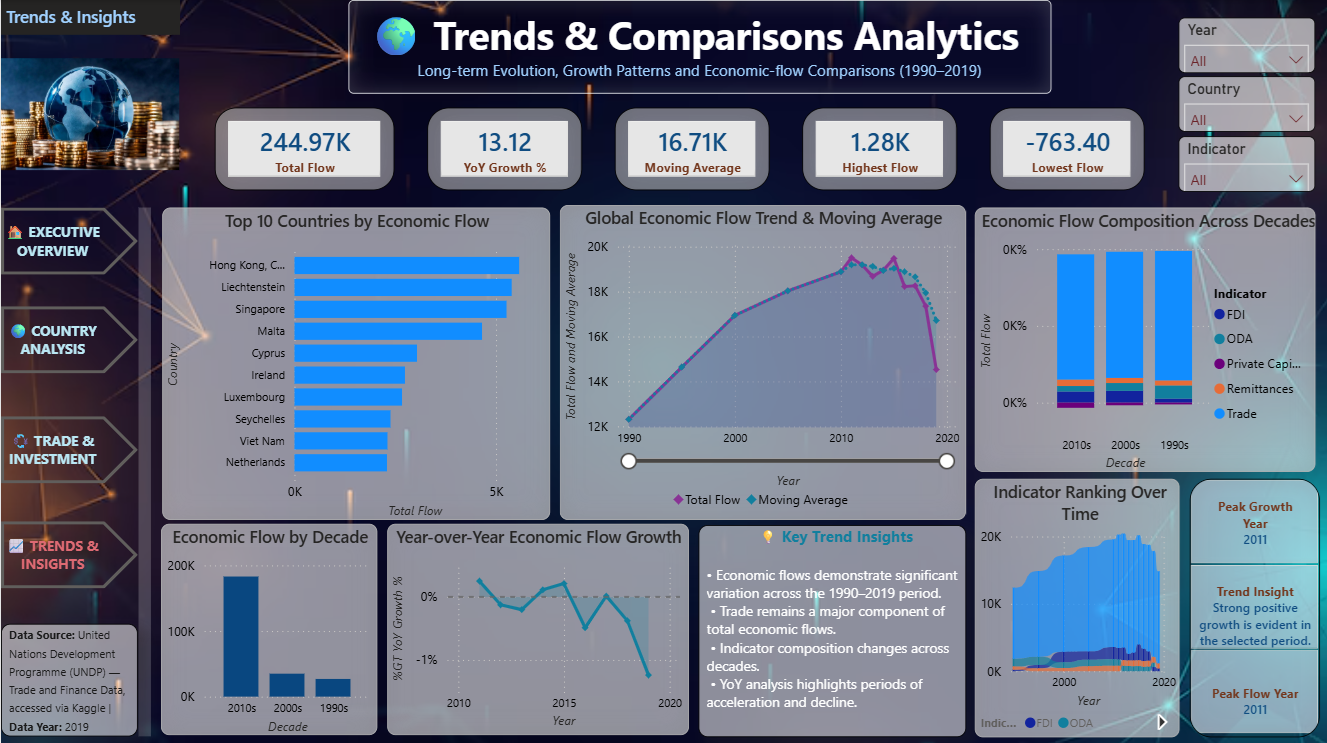

What the dashboard file says about the page in this screenshot:
{"tool":"powerbi","page":{"name":"04. Trends & Comparisons","canvas":[1280,720],"ordinal":3},"visuals":[{"type":"textbox","box":[335.4,0,678,90.5],"z":0},{"type":"slicer","fields":{"Values":["Dim_Date.Year"]},"box":[1137,17.4,131.6,53.9],"z":0,"group":"g2"},{"type":"textbox","box":[0,0,172.8,33.3],"z":1000},{"type":"slicer","fields":{"Values":["Dim_Country.Country"]},"box":[1137,74.5,131.6,53.9],"z":1000,"group":"g2"},{"type":"group","id":"g1","title":"Group 1","box":[206.3,103.8,897.6,80.8],"z":2000},{"type":"cardVisual","fields":{"Data":["My Measures.Total Flow"]},"box":[206.3,103.9,173.6,80.3],"z":2000,"group":"g1"},{"type":"slicer","fields":{"Values":["Dim_Indicator.Indicator"]},"box":[1137,131.6,131.6,53.9],"z":2000,"group":"g2"},{"type":"cardVisual","fields":{"Data":["My Measures.YoY Growth %"]},"box":[411.5,103.8,149.7,80.3],"z":3000,"group":"g1"},{"type":"clusteredBarChart","title":"Top 10 Countries by Economic Flow","fields":{"Category":["Dim_Country.Country"],"Y":["My Measures.Total Flow"]},"box":[155.5,200.8,374.4,301.9],"z":3000},{"type":"cardVisual","fields":{"Data":["My Measures.Moving Average"]},"box":[592.4,103.8,149.7,80.3],"z":4000,"group":"g1"},{"type":"textbox","box":[673.2,506.7,258.2,205.1],"z":4000},{"type":"cardVisual","fields":{"Data":["My Measures.Highest Flow"]},"box":[773.3,103.8,149.7,80.3],"z":5000,"group":"g1"},{"type":"textbox","box":[132.7,200.3,12.1,510.3],"z":5000},{"type":"group","id":"g2","title":"Group 2","box":[1137,17.4,131.6,168.1],"z":6000},{"type":"cardVisual","fields":{"Data":["My Measures.Lowest Flow"]},"box":[954.1,103.8,149.7,80.3],"z":6000,"group":"g1"},{"type":"actionButton","box":[0,200.8,132.1,64.8],"z":7000},{"type":"actionButton","box":[0,295.4,132.1,64.8],"z":8000},{"type":"actionButton","box":[0,401.6,132.1,64.8],"z":9000},{"type":"actionButton","box":[0,502.7,132.1,64.8],"z":10000},{"type":"textbox","box":[0,602.4,132.1,108.8],"z":11000},{"type":"image","box":[0,33.7,172.3,152.9],"z":12000},{"type":"lineChart","title":"Global Economic Flow Trend & Moving Average","fields":{"Category":["Dim_Date.Year"],"Y":["My Measures.Total Flow","My Measures.Moving Average"]},"box":[539.3,197.9,392.1,304],"z":13000},{"type":"lineChart","title":"Year-over-Year Economic Flow Growth","fields":{"Category":["Dim_Date.Year"],"Y":["My Measures.YoY Growth %"]},"box":[372.9,506,290.9,204.3],"z":14000},{"type":"clusteredColumnChart","title":"Economic Flow by Decade","fields":{"Category":["Dim_Date.Decade"],"Y":["My Measures.Total Flow"]},"box":[154.7,506,208.9,204.3],"z":15000},{"type":"hundredPercentStackedColumnChart","title":"Economic Flow Composition Across Decades","fields":{"Category":["Dim_Date.Decade"],"Series":["Dim_Indicator.Indicator"],"Y":["My Measures.Total Flow"]},"box":[939.2,200.5,328.9,255.4],"z":16000},{"type":"cardVisual","title":"Peak Growth Year","fields":{"Data":["My Measures.Top Growth Year","My Measures.Trend Insight","My Measures.Highest Flow Year"]},"box":[1147.3,462.1,125.5,249.7],"z":17000},{"type":"ribbonChart","title":"Indicator Ranking Over Time","fields":{"Category":["Dim_Date.Year"],"Series":["Dim_Indicator.Indicator"],"Y":["My Measures.Total Flow"]},"box":[939.2,461.7,197.7,249.6],"z":18000}]}

Visuals, with their boxes in screenshot pixels (x1, y1, x2, y2), scaled from the page's 1280x720 canvas onto the 1327x743 screenshot:
textbox: (348,0,1051,93)
slicer - Dim_Date.Year: (1179,18,1315,74)
textbox: (0,0,179,34)
slicer - Dim_Country.Country: (1179,77,1315,133)
"Group 1" group: (214,107,1144,190)
cardVisual - My Measures.Total Flow: (214,107,394,190)
slicer - Dim_Indicator.Indicator: (1179,136,1315,191)
cardVisual - My Measures.YoY Growth %: (427,107,582,190)
"Top 10 Countries by Economic Flow" clusteredBarChart: (161,207,549,519)
cardVisual - My Measures.Moving Average: (614,107,769,190)
textbox: (698,523,966,735)
cardVisual - My Measures.Highest Flow: (802,107,957,190)
textbox: (138,207,150,733)
"Group 2" group: (1179,18,1315,191)
cardVisual - My Measures.Lowest Flow: (989,107,1144,190)
actionButton: (0,207,137,274)
actionButton: (0,305,137,372)
actionButton: (0,414,137,481)
actionButton: (0,519,137,586)
textbox: (0,622,137,734)
image: (0,35,179,193)
"Global Economic Flow Trend & Moving Average" lineChart: (559,204,966,518)
"Year-over-Year Economic Flow Growth" lineChart: (387,522,688,733)
"Economic Flow by Decade" clusteredColumnChart: (160,522,377,733)
"Economic Flow Composition Across Decades" hundredPercentStackedColumnChart: (974,207,1315,470)
"Peak Growth Year" cardVisual: (1189,477,1320,735)
"Indicator Ranking Over Time" ribbonChart: (974,476,1179,734)
